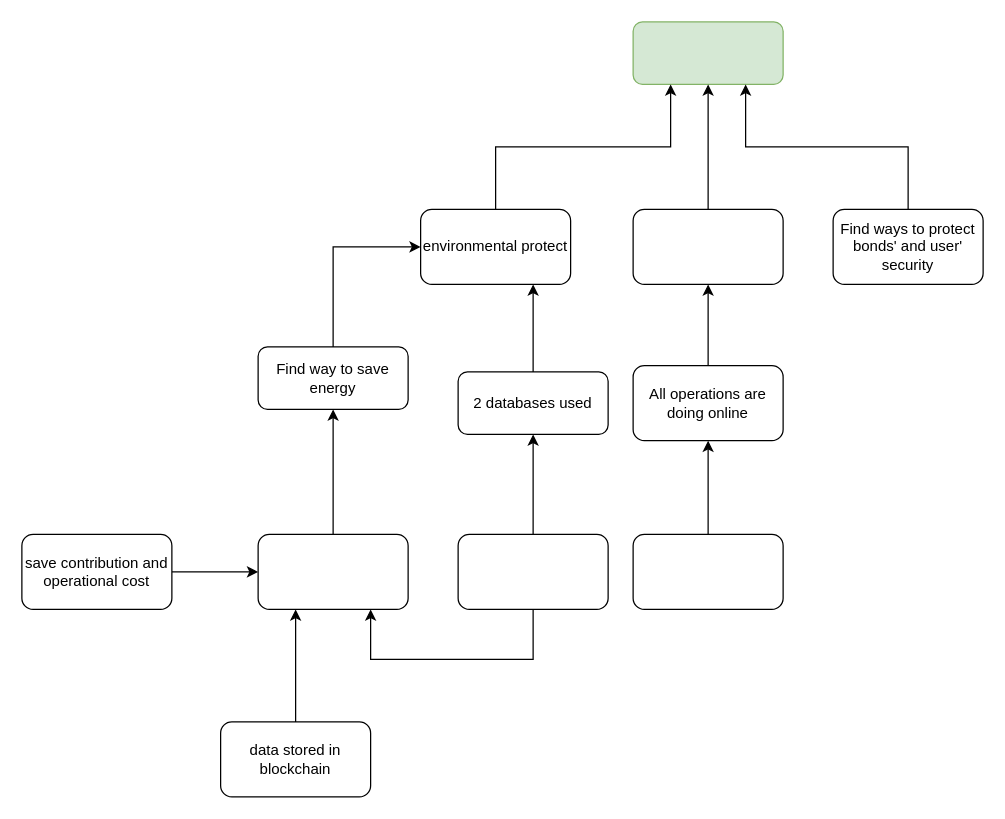
Image size: 1005x819. Some labels were removed from this diagram. Each missing label, with the centre of its shape:
no need for paper record: (x=532, y=571)
provide convenience to green bond stakeholder: (x=707, y=52)
represent loan as ERC721 token: (x=332, y=571)
time saving: (x=707, y=246)
